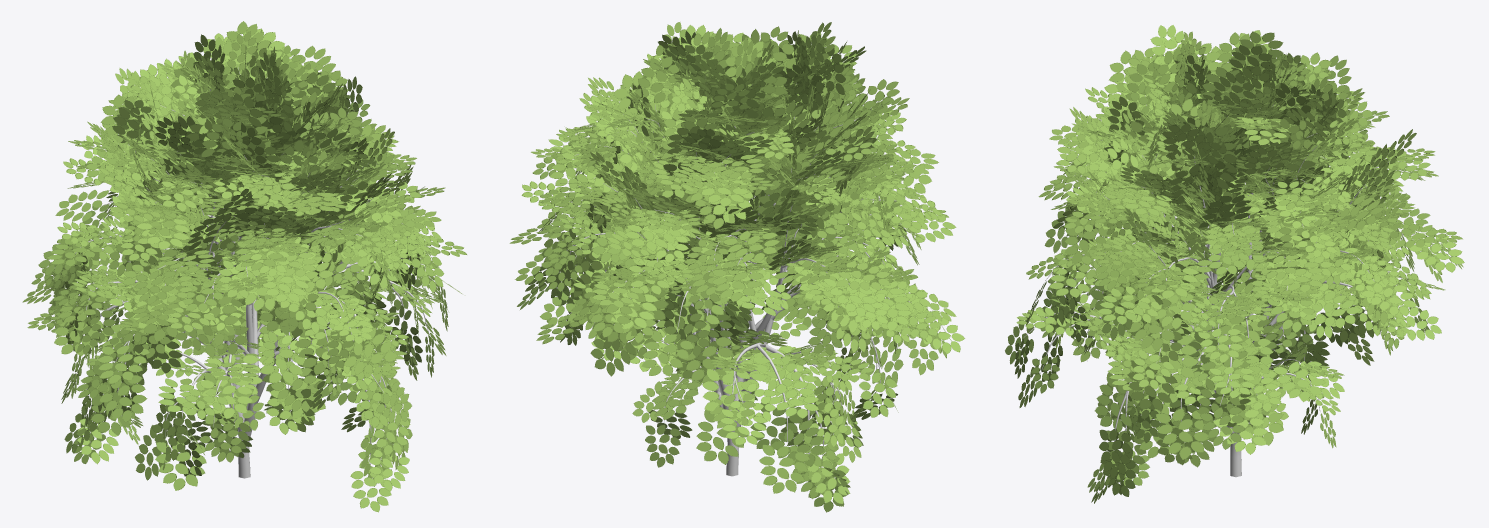
File: tree3.fbx
The picture shows the model from 3 angles, left to right: view 1: azimuth 30°, elevation 25°; view 2: azimuth 150°, elevation 25°; view 3: azimuth 270°, elevation 25°; orthographic projection. The views are drawn at different scales.
Visible parts, largest first — view 1: leaves, tree; view 2: leaves, tree; view 3: leaves, tree.
Part boxes in pixels (x1,y1,x2,y2): leaves: [22, 21, 466, 512]; tree: [64, 67, 435, 478]; leaves: [509, 22, 964, 512]; tree: [559, 78, 932, 476]; leaves: [1005, 25, 1464, 503]; tree: [1024, 95, 1414, 477].
Bounding box in the file's own units: 375 × 380 × 368.
1 material, 1 textured.
